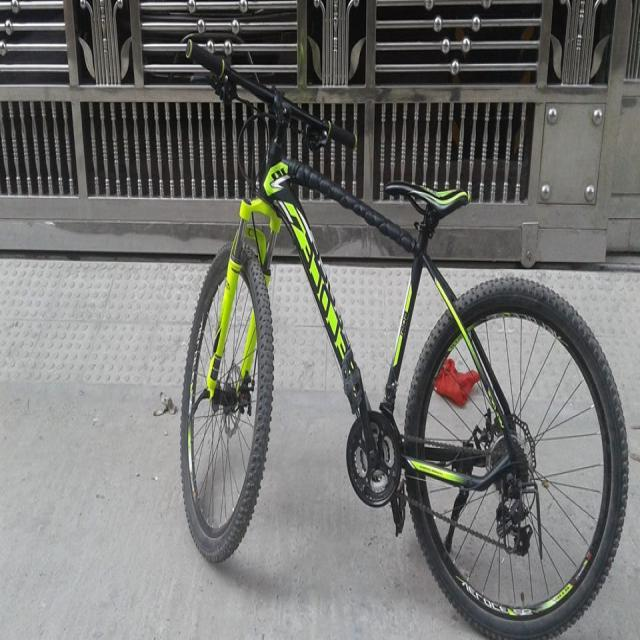Bicycle: (88, 37, 637, 640)
